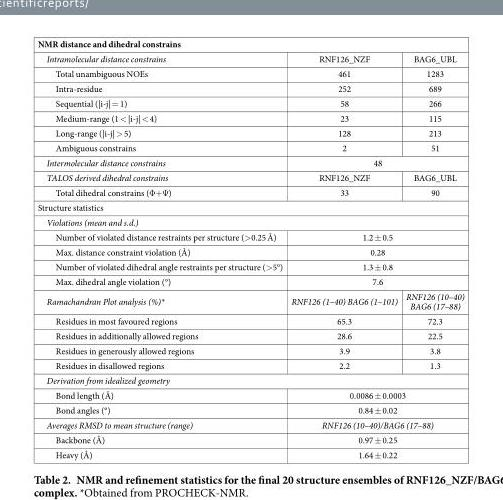table: (36, 37, 463, 460)
table column: (36, 37, 286, 460), (286, 37, 401, 460), (401, 37, 463, 460)
table projected row header: (36, 199, 463, 214), (36, 214, 463, 229), (36, 372, 463, 387), (36, 37, 463, 50)
table row: (36, 288, 463, 313), (36, 50, 463, 65), (36, 65, 463, 80), (36, 80, 463, 95), (36, 95, 463, 110), (36, 110, 463, 125), (36, 125, 463, 140), (36, 154, 463, 169), (36, 169, 463, 184), (36, 184, 463, 199), (36, 199, 463, 214), (36, 214, 463, 229), (36, 229, 463, 244), (36, 244, 463, 259), (36, 273, 463, 288), (36, 313, 463, 328), (36, 342, 463, 357), (36, 357, 463, 372), (36, 372, 463, 387), (36, 387, 463, 402), (36, 402, 463, 417), (36, 417, 463, 432), (36, 140, 463, 154), (36, 259, 463, 273), (36, 328, 463, 342), (36, 432, 463, 446), (36, 446, 463, 460), (36, 37, 463, 50)
table spanning cell: (286, 154, 463, 169), (286, 229, 463, 244), (286, 244, 463, 259), (286, 273, 463, 288), (286, 387, 463, 402), (286, 402, 463, 417), (286, 417, 463, 432), (286, 259, 463, 273), (286, 432, 463, 446), (286, 446, 463, 460)
